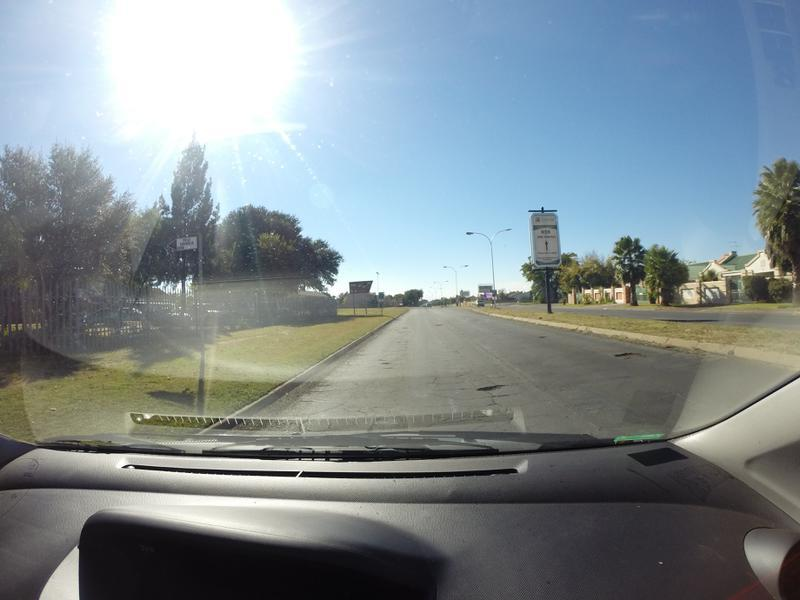pothole: (608, 346, 651, 361), (477, 381, 509, 392)
